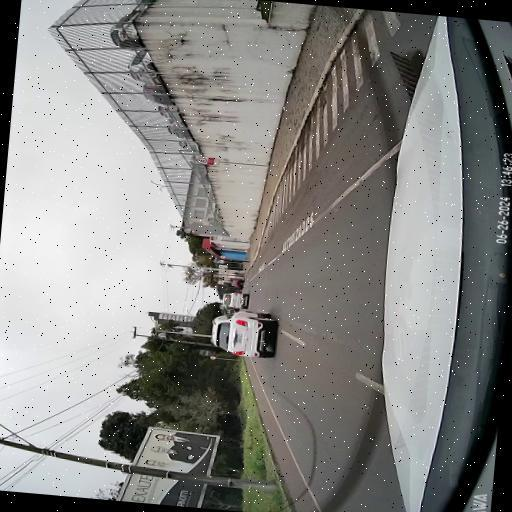R-6b: (196, 156, 207, 163)
